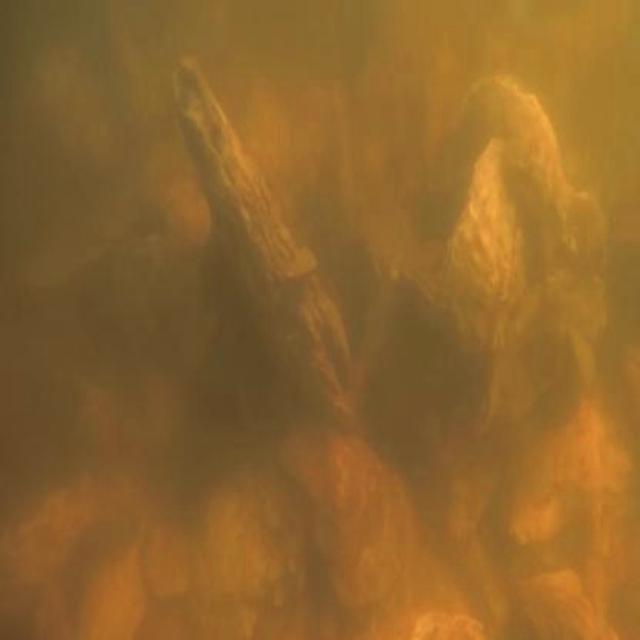Oyster-Closed: (169, 55, 357, 417), (275, 417, 425, 619), (435, 83, 566, 279), (435, 135, 529, 355)
